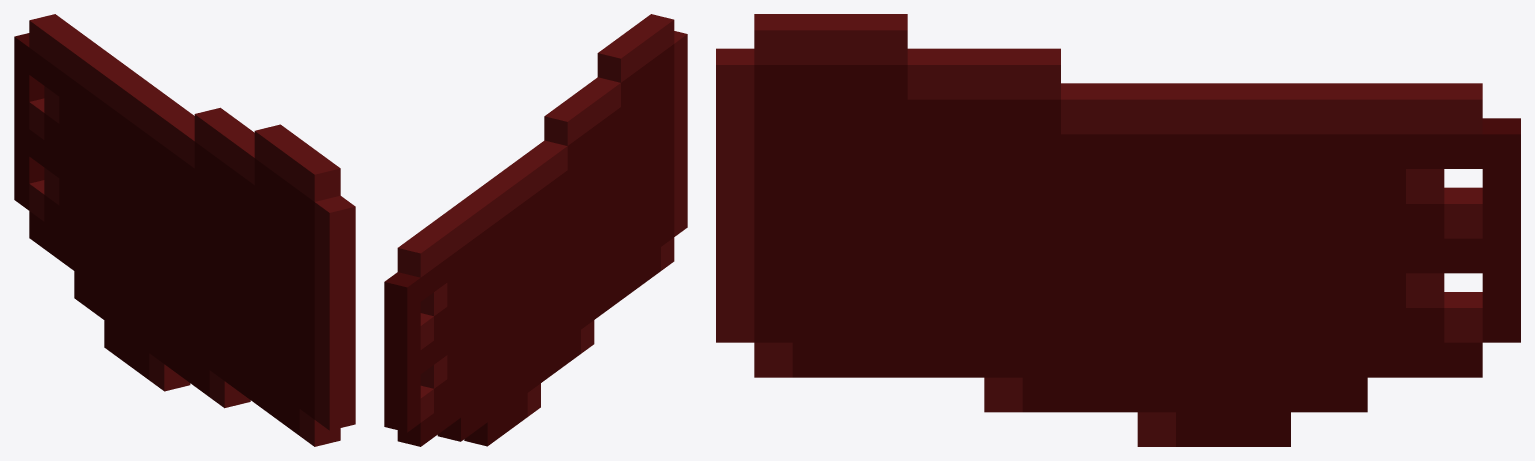
The model's file is Wing-13-MeteorSlicer_Wing_R.obj.
3 renders of one model, left to right at view 1: azimuth 30°, elevation 25°; view 2: azimuth 150°, elevation 25°; view 3: azimuth 270°, elevation 25°, orthographic. The views are drawn at different scales.
Visible parts, largest first — view 1: MeteorSlicer_Wing_R; view 2: MeteorSlicer_Wing_R; view 3: MeteorSlicer_Wing_R.
Part boxes in pixels (x1,y1,x2,y2): MeteorSlicer_Wing_R: (14, 14, 355, 446); MeteorSlicer_Wing_R: (384, 14, 687, 446); MeteorSlicer_Wing_R: (716, 14, 1520, 446).
Bounding box in the file's own units: 0.1 × 1.2 × 2.1.
1 material, 1 textured.
